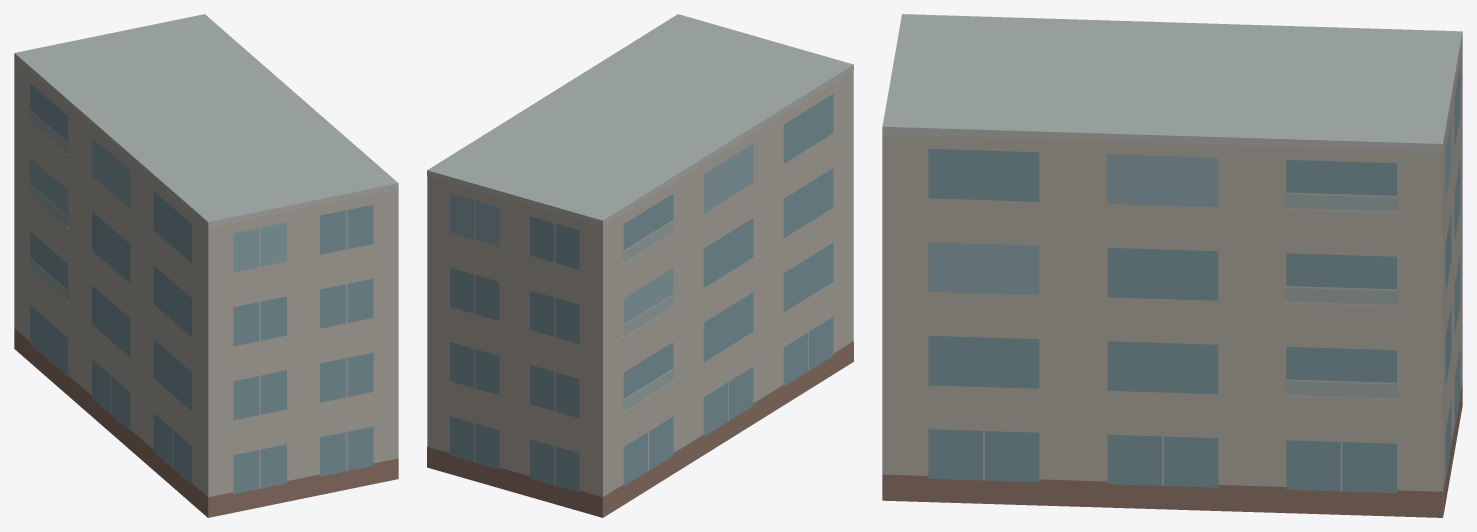
File: residential-440f994b-1940-4513-a125-501aa6cef9bd.glb
3 renders of one model, left to right at view 1: azimuth 30°, elevation 25°; view 2: azimuth 150°, elevation 25°; view 3: azimuth 270°, elevation 25°, orthographic. The views are drawn at different scales.
Parts seen in each view (by area): view 1: residential-440f994b-1940-4513-a125-501aa6cef9bd.tmp; view 2: residential-440f994b-1940-4513-a125-501aa6cef9bd.tmp; view 3: residential-440f994b-1940-4513-a125-501aa6cef9bd.tmp.
Boxes of the visible parts, box(x1,y1,x2,y2) form: residential-440f994b-1940-4513-a125-501aa6cef9bd.tmp: box(14, 14, 398, 517); residential-440f994b-1940-4513-a125-501aa6cef9bd.tmp: box(427, 14, 853, 517); residential-440f994b-1940-4513-a125-501aa6cef9bd.tmp: box(882, 14, 1462, 517).
Size of the model in its own units: 9.1 by 12.2 by 17.17.
